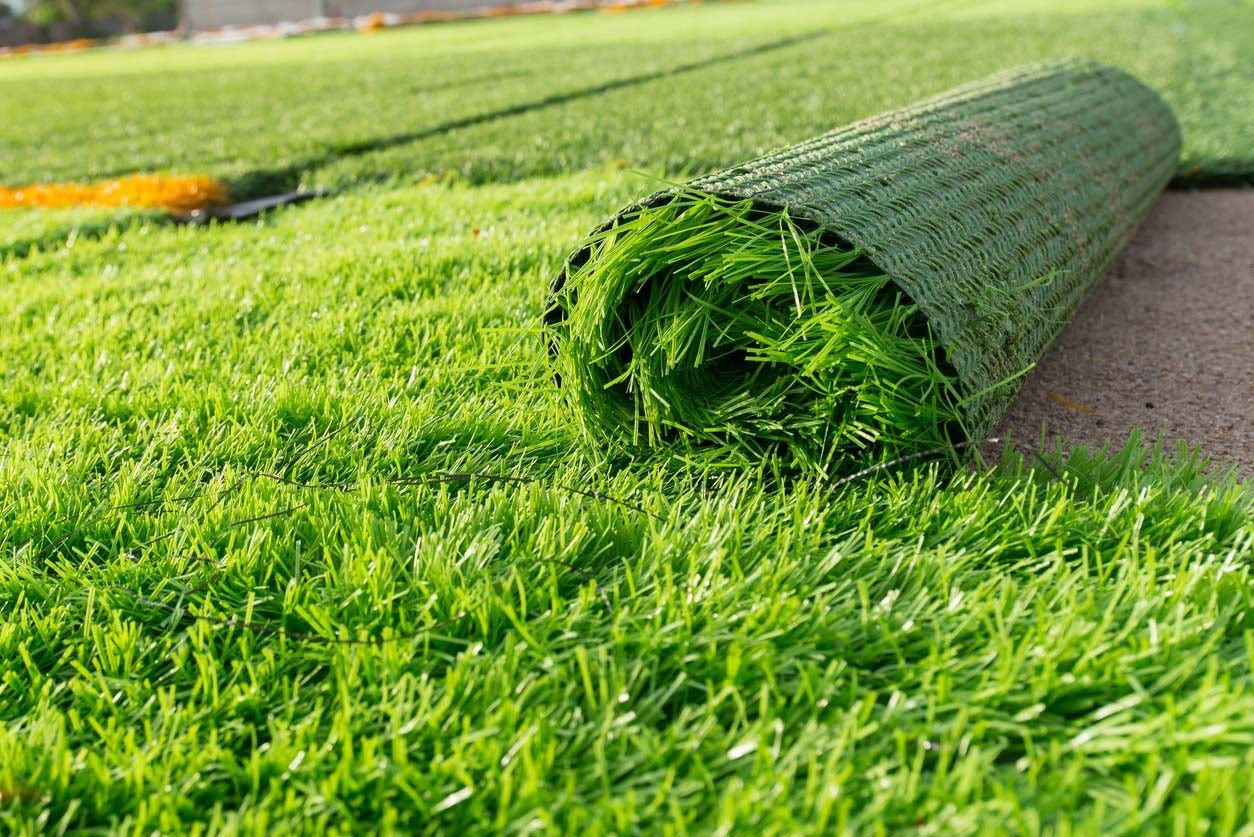grass: (6, 74, 1254, 836)
